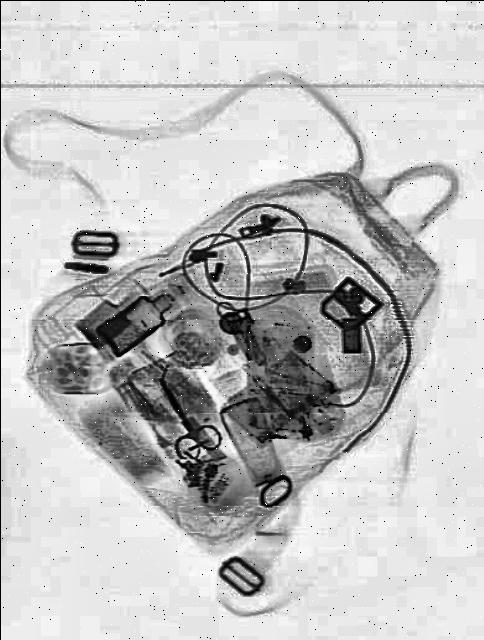Scissors: (139, 361, 222, 472)
